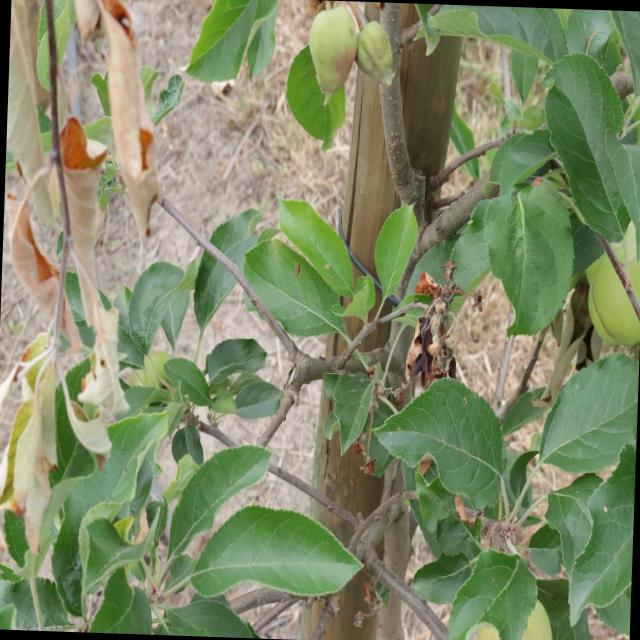-FireBlight-: (0, 0, 119, 561), (78, 0, 152, 236), (400, 269, 465, 389)
